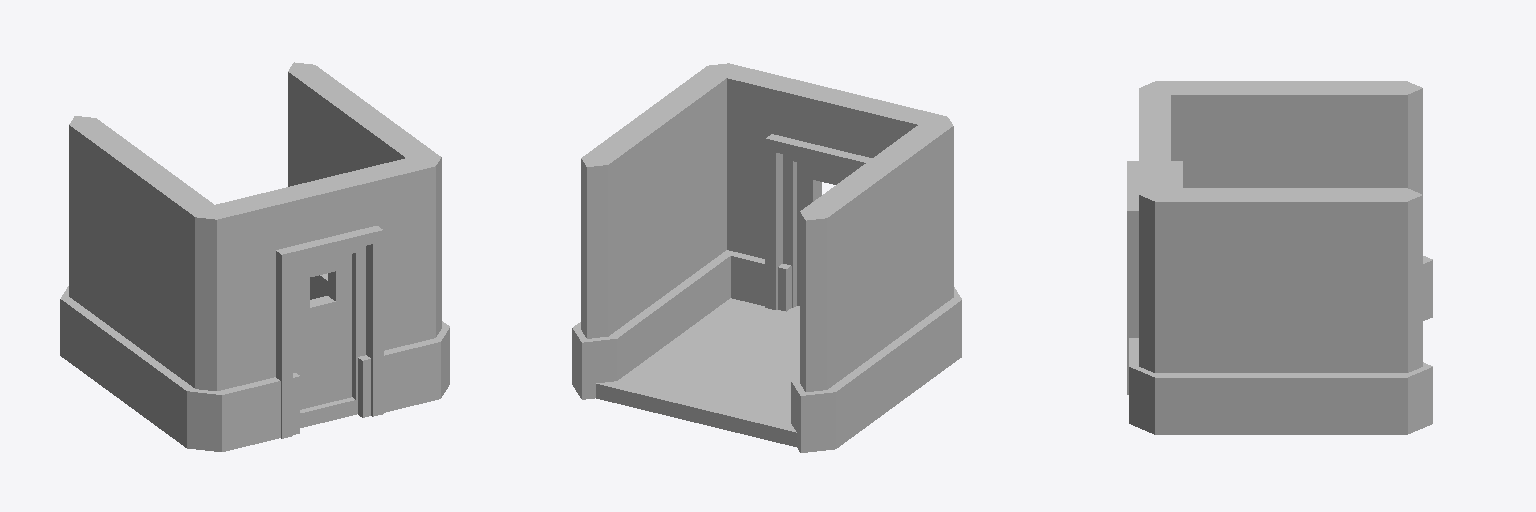
Rendered from sm_hallway_end_04.obj.
3 renders of one model, left to right at view 1: azimuth 30°, elevation 25°; view 2: azimuth 150°, elevation 25°; view 3: azimuth 270°, elevation 25°, orthographic.
Visible parts, largest first — view 1: door_02_184, wall_01_172, wall_01_176; view 2: wall_01_172, wall_01_176, door_02_184, floor_square_169; view 3: wall_01_176, wall_01_172, door_02_184.
Boxes of the visible parts, x1=… form: door_02_184: x1=197, y1=155, x2=449, y2=451; wall_01_172: x1=60, y1=116, x2=225, y2=451; wall_01_176: x1=288, y1=62, x2=449, y2=397; wall_01_172: x1=791, y1=117, x2=961, y2=452; wall_01_176: x1=572, y1=63, x2=734, y2=399; door_02_184: x1=709, y1=63, x2=954, y2=311; floor_square_169: x1=596, y1=298, x2=799, y2=446; wall_01_176: x1=1129, y1=188, x2=1432, y2=434; wall_01_172: x1=1140, y1=81, x2=1432, y2=320; door_02_184: x1=1127, y1=83, x2=1182, y2=432.
Size of the model in its own units: 1.21 by 1 by 1.22.